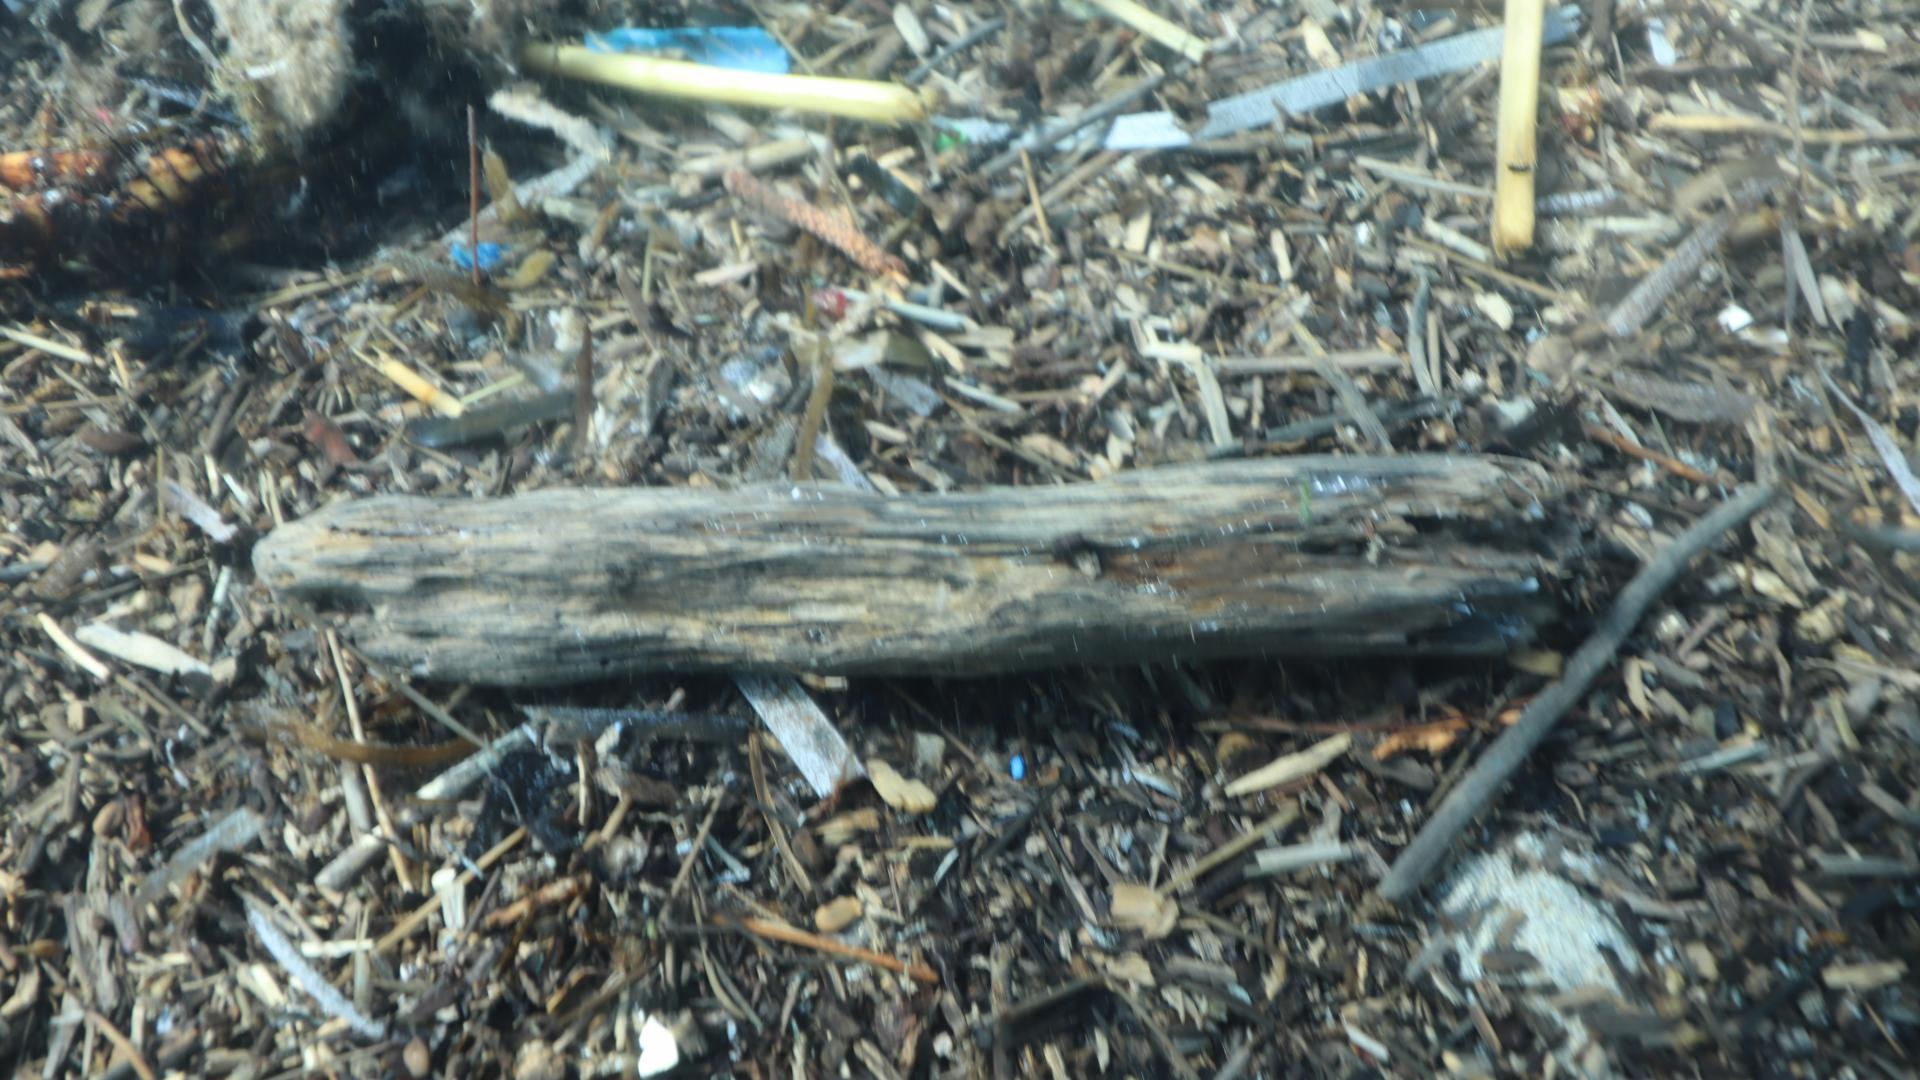wood: (248, 454, 1586, 690)
